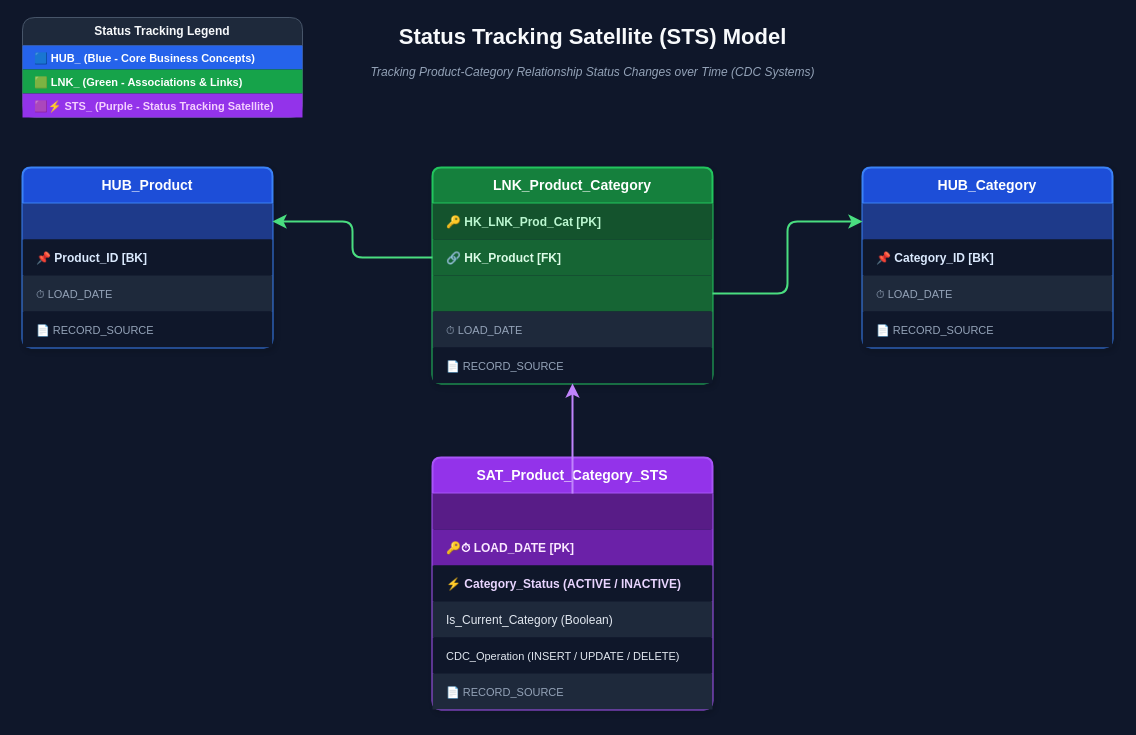
The diagram is 1136 pixels wide and 735 high, and some of its shapes have lost their labels. The shapes that lost their labels are listed below. From the top down, each one's centre as x and y in pixels, then its label:
At (147,221): "🔑 HK_Product [PK]".
At (987,221): "🔑 HK_Category [PK]".
At (572,293): "🔗 HK_Category [FK]".
At (572,511): "🔑🔗 HK_LNK_Prod_Cat [PK, FK]".
